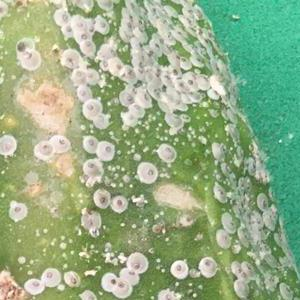Femea: (77, 84, 103, 122), (64, 50, 93, 80), (169, 50, 190, 90), (58, 10, 87, 36), (79, 133, 111, 155), (92, 191, 127, 210), (171, 261, 214, 274), (23, 271, 55, 287), (119, 258, 142, 278), (147, 33, 161, 63), (111, 61, 133, 80), (36, 138, 64, 152), (101, 276, 131, 289), (122, 10, 142, 28), (122, 83, 139, 101), (81, 158, 99, 174), (88, 17, 105, 32), (139, 165, 155, 179), (65, 274, 79, 286), (11, 201, 19, 218), (82, 39, 94, 50)
Linfa: (114, 175, 135, 187), (154, 255, 167, 273), (103, 163, 126, 172), (32, 225, 49, 237), (122, 138, 134, 154), (137, 119, 154, 130), (144, 112, 158, 122), (171, 137, 185, 147), (14, 253, 27, 263), (150, 208, 162, 218), (151, 133, 167, 140), (57, 241, 68, 251), (47, 237, 57, 247), (131, 125, 140, 135), (129, 222, 137, 231), (171, 279, 180, 287), (117, 221, 128, 227)
